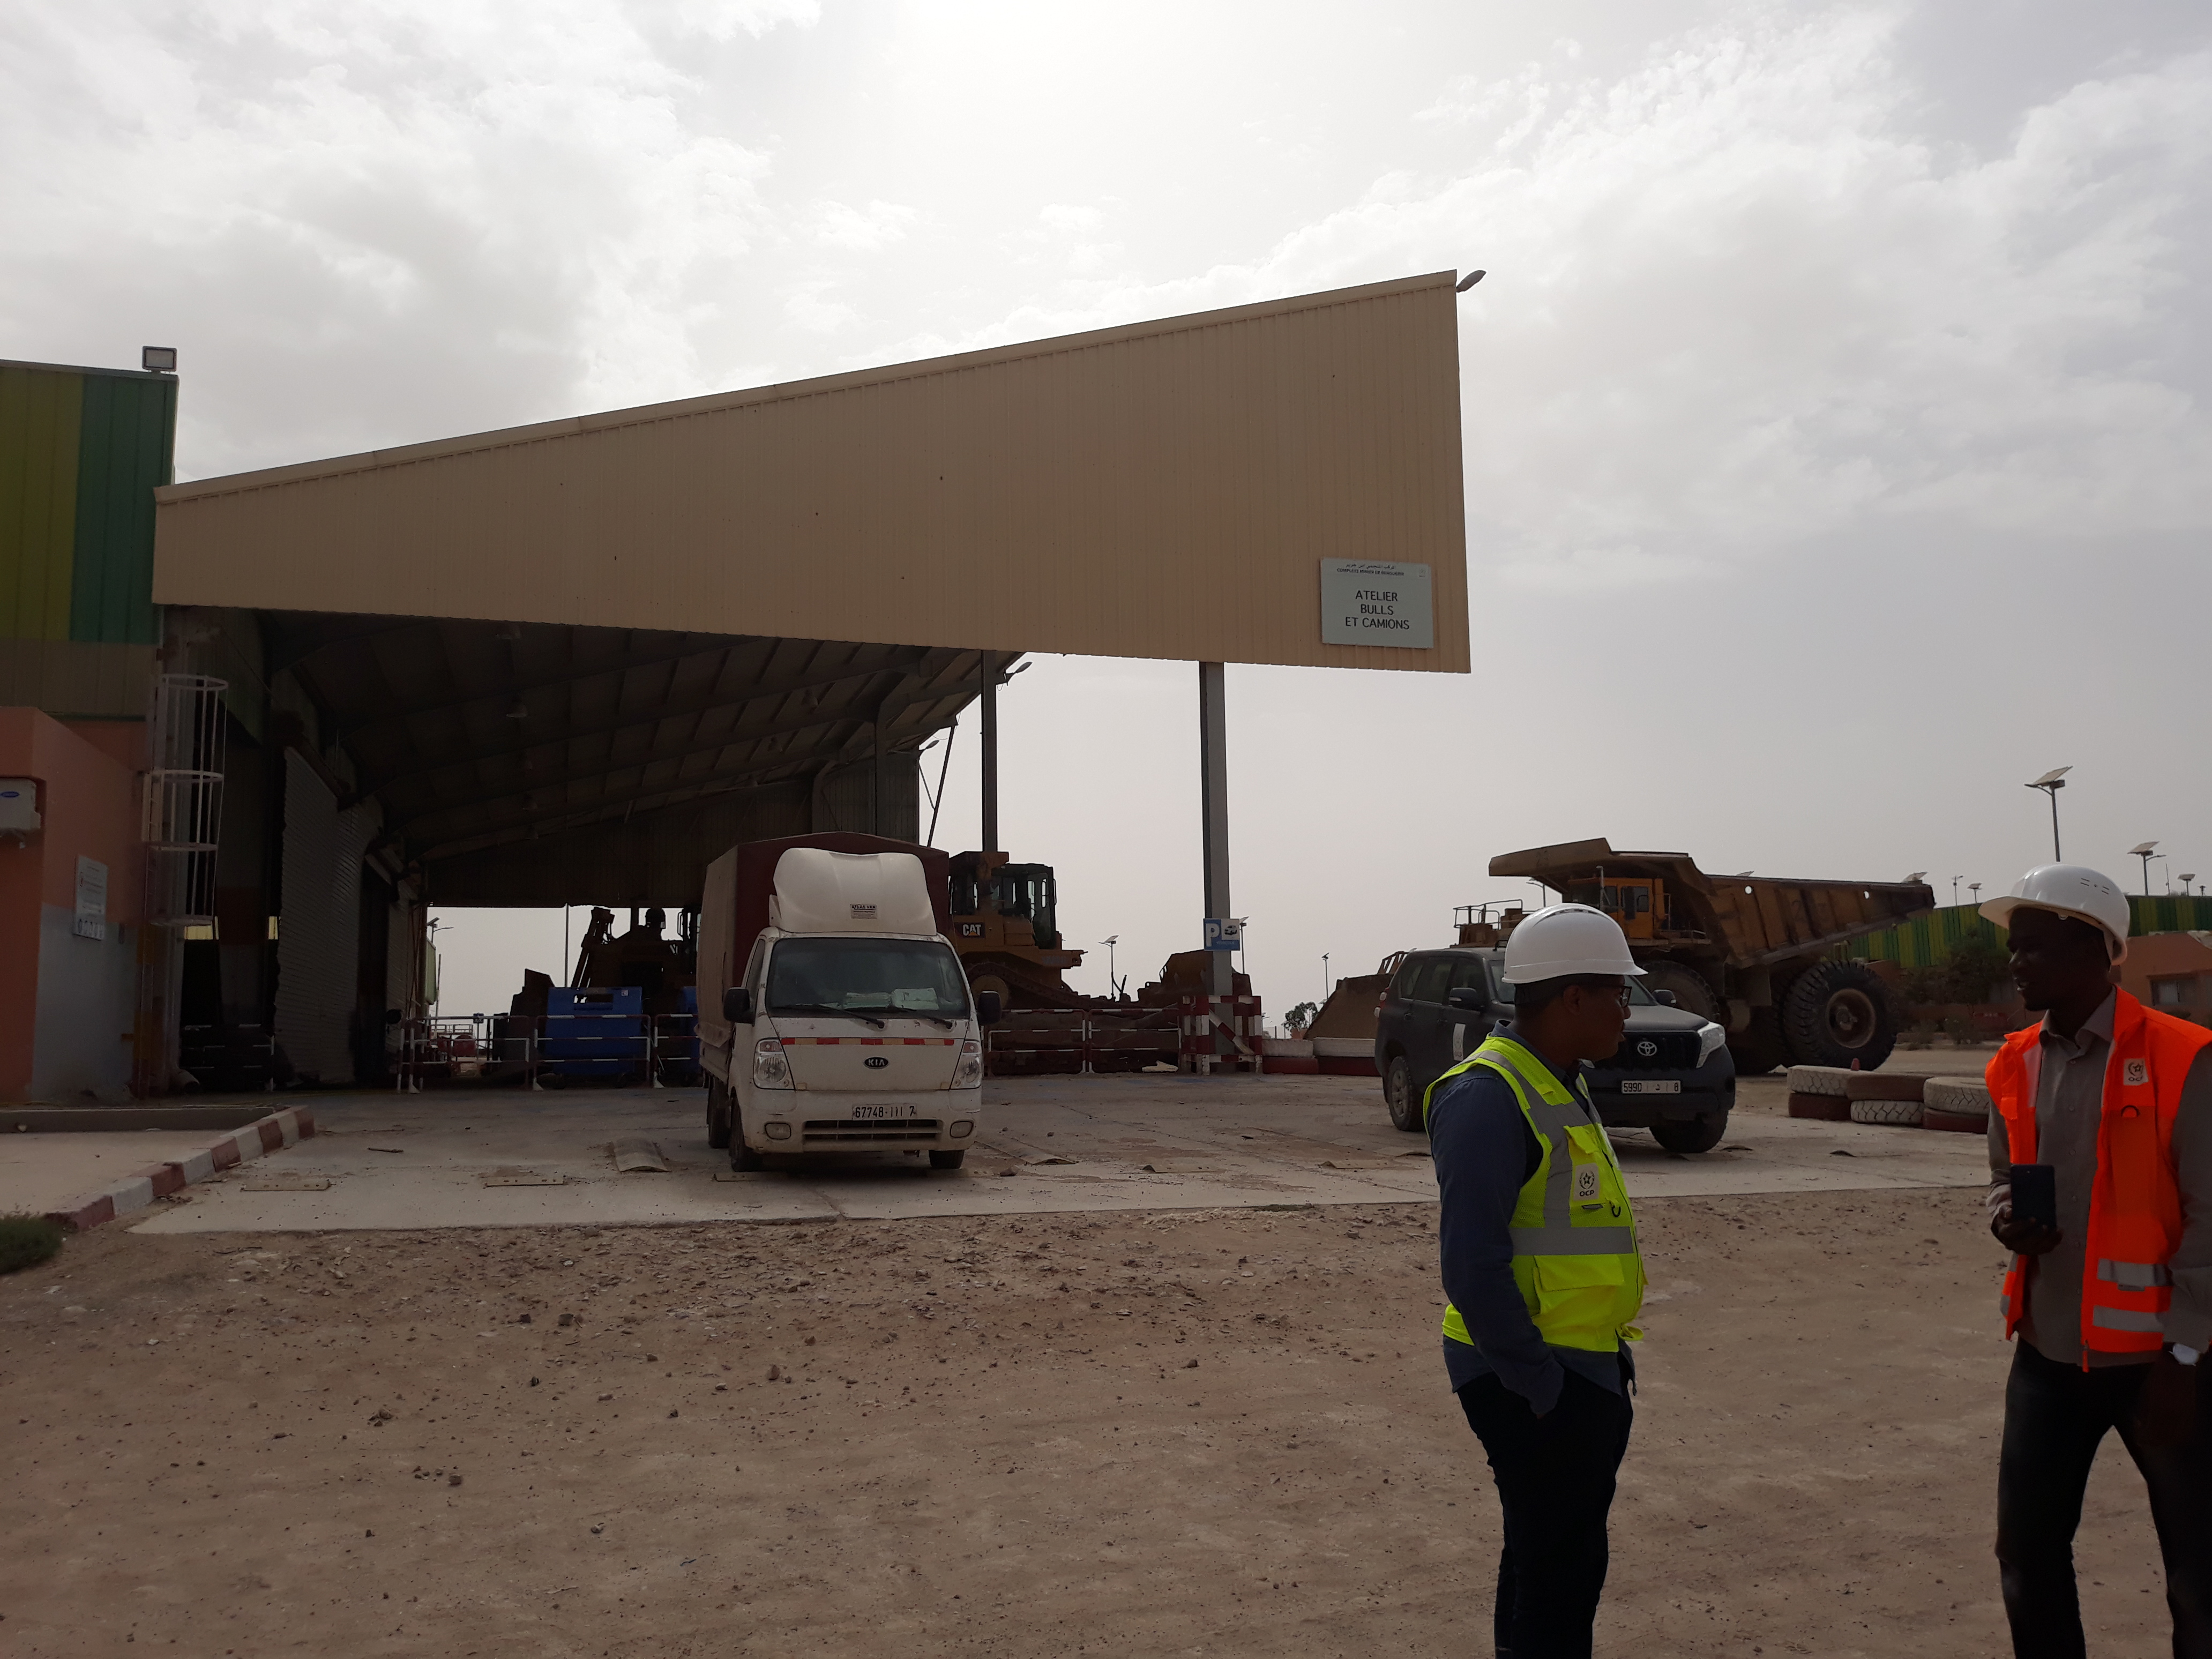camion: (1483, 814, 1946, 1105)
car: (1360, 932, 1797, 1183)
person: (1977, 853, 2212, 1644), (1431, 892, 1665, 1659)
